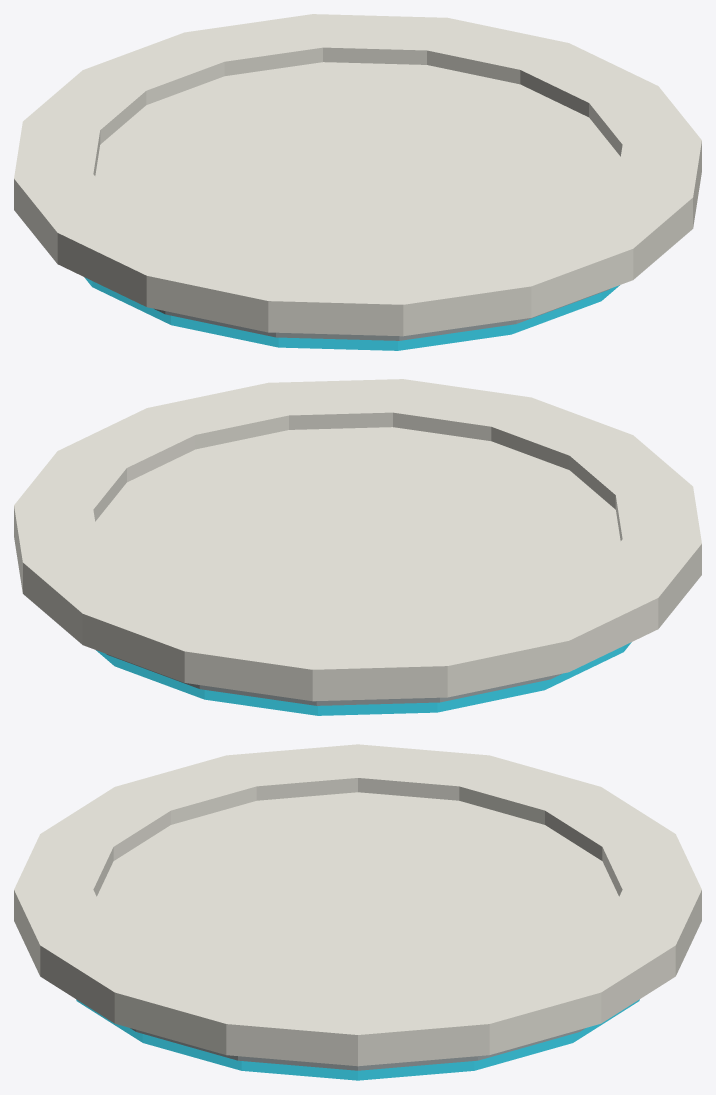
Rendered from ceiling_ring.glb.
3 renders of one model, top to bottom at view 1: azimuth 30°, elevation 25°; view 2: azimuth 150°, elevation 25°; view 3: azimuth 270°, elevation 25°, orthographic.
Visible parts, largest first — view 1: Aero_ceiling_ring; view 2: Aero_ceiling_ring; view 3: Aero_ceiling_ring.
Boxes of the visible parts, x1,y1,x2,y2 form: Aero_ceiling_ring: (14, 14, 701, 350); Aero_ceiling_ring: (14, 379, 701, 715); Aero_ceiling_ring: (14, 744, 701, 1080).
Bounding box in the file's own units: 1.3 × 0.13 × 1.3.
3 materials, 3 textured.
